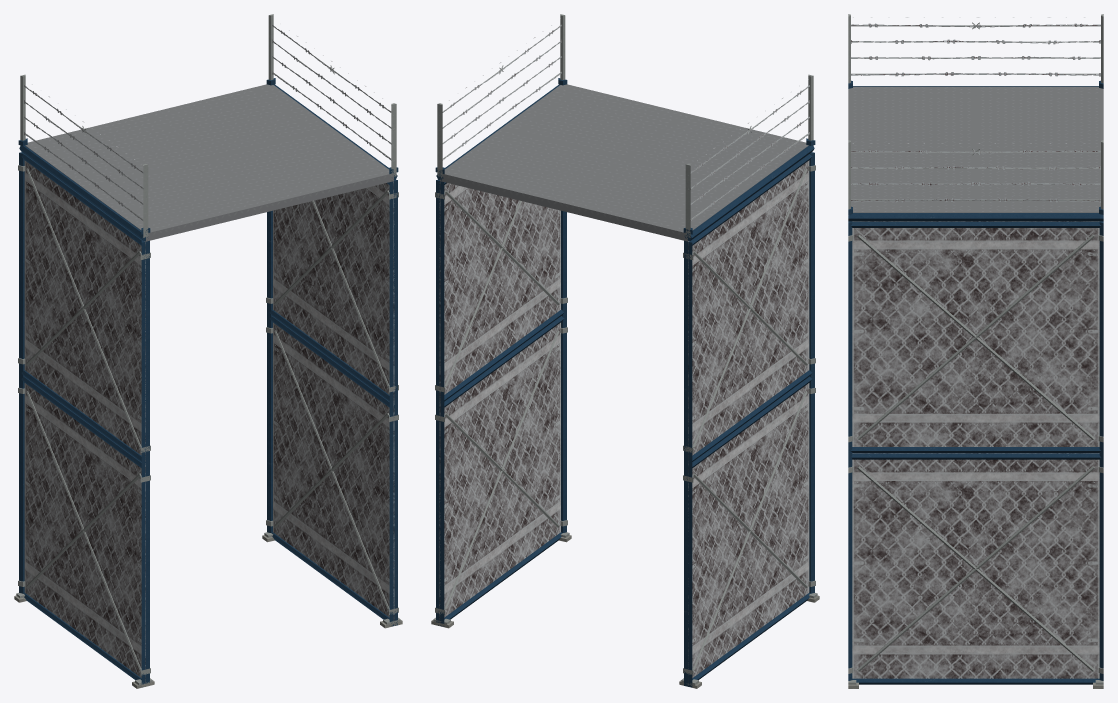
File: half-bay.glb
The picture shows the model from 3 angles, left to right: view 1: azimuth 30°, elevation 25°; view 2: azimuth 150°, elevation 25°; view 3: azimuth 270°, elevation 25°; orthographic projection. The views are drawn at different scales.
Parts seen in each view (by area): view 1: half-bay-lod0-base0, half-bay-lod0-floor0, half-bay-lod0-roof0; view 2: half-bay-lod0-base0, half-bay-lod0-floor0, half-bay-lod0-roof0; view 3: half-bay-lod0-base0, half-bay-lod0-floor0, half-bay-lod0-roof0.
Part boxes in pixels (box(x1,y1,x2,y2)): half-bay-lod0-base0: box(14, 315, 402, 688); half-bay-lod0-floor0: box(18, 152, 398, 464); half-bay-lod0-roof0: box(18, 14, 398, 241); half-bay-lod0-base0: box(431, 315, 819, 688); half-bay-lod0-floor0: box(435, 152, 815, 464); half-bay-lod0-roof0: box(435, 14, 815, 241); half-bay-lod0-base0: box(848, 453, 1103, 688); half-bay-lod0-floor0: box(848, 221, 1103, 454); half-bay-lod0-roof0: box(848, 14, 1103, 221).
Size of what is drawn, in the model's own units: 22.5 by 42.2 by 18.
Materials: 6 (6 with a texture image).
